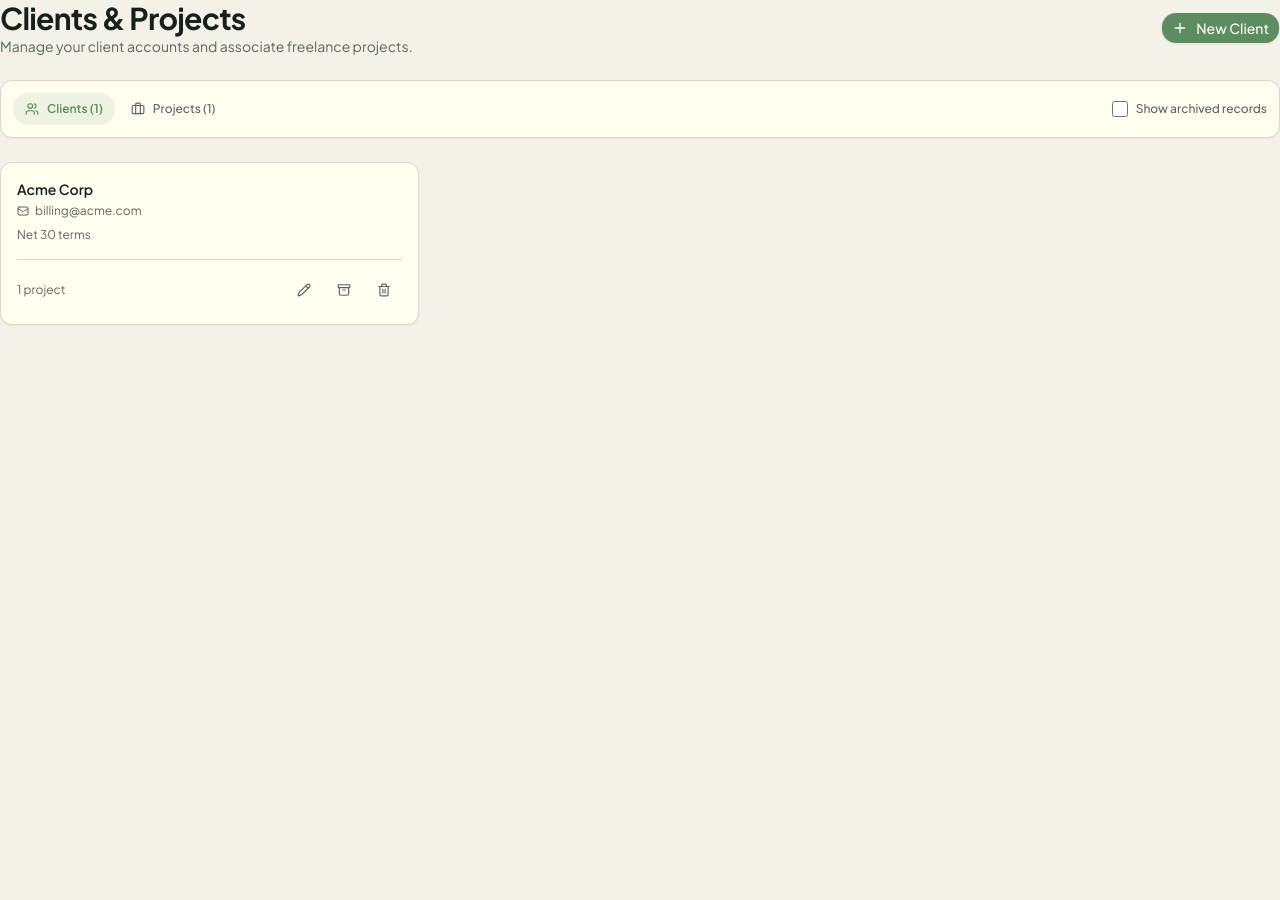
Test: ClientsProjectsManager Component › shows 409 conflict fallback dialog when trying to delete client with projects/transactions
Expected: the heading "Acme Corp" is shown, [17,179,93,199]
Click the button named "delete acme corp" at (384, 290), box [366,272,402,308]
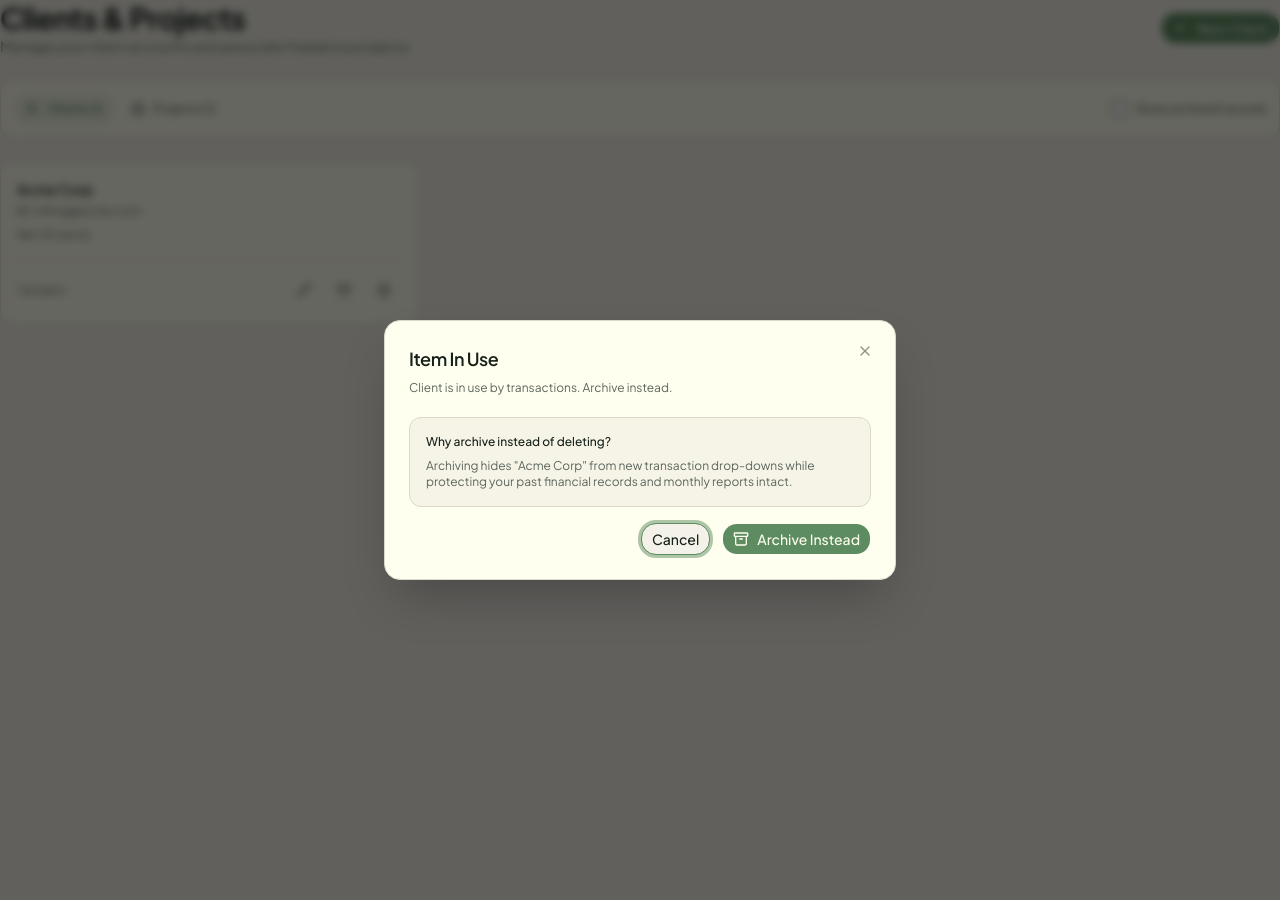
Result: the heading "Item In Use" is shown at [409,347,498,370]
Result: the button "Archive Instead" is shown at [722,523,871,555]
